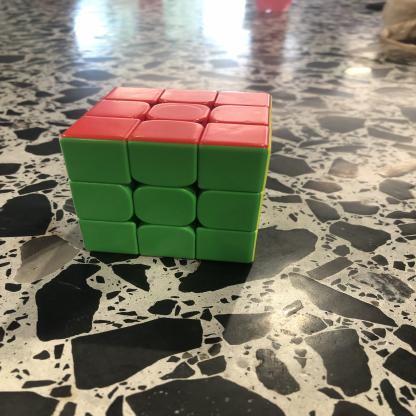SolvedCube: (52, 65, 296, 281)
